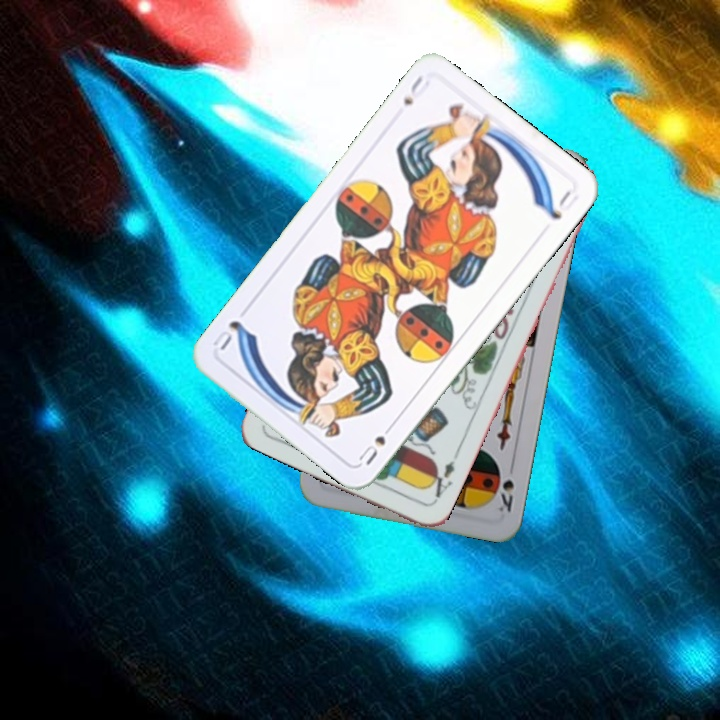EA: (422, 456, 458, 505)
SK: (491, 465, 517, 515)
SU: (354, 417, 399, 468), (399, 71, 433, 108)
